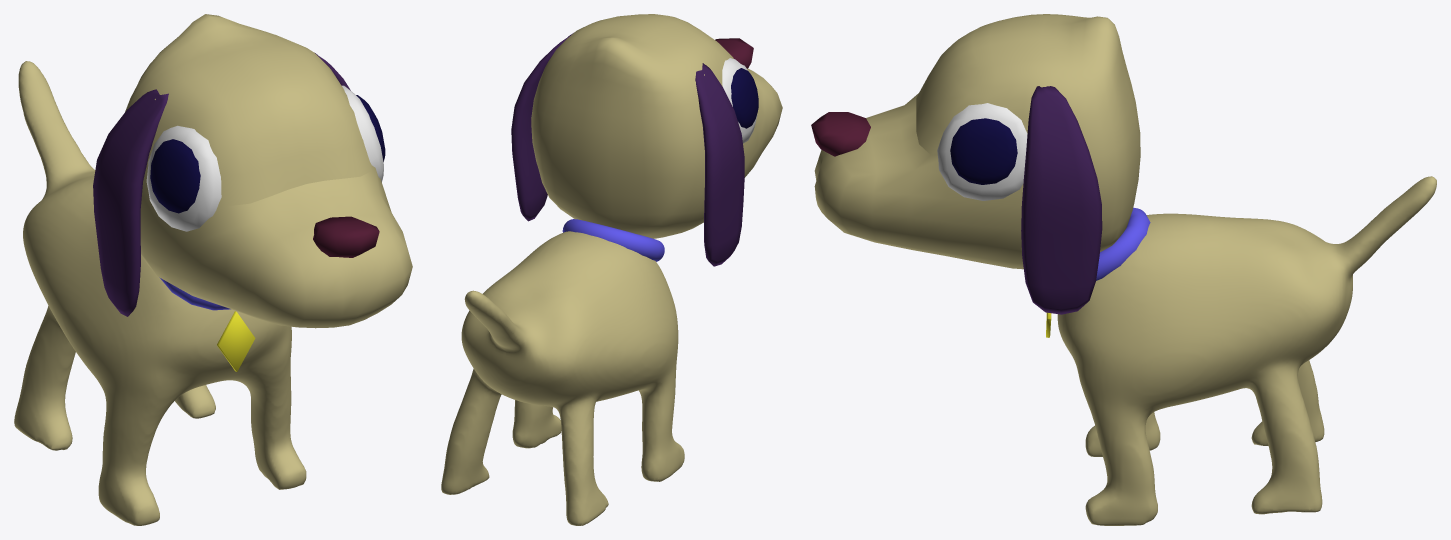
The model's file is Nestor_alive_2_alpha_fixed.fbx.
3 views of the same model, side by side, from view 1: azimuth 30°, elevation 25°; view 2: azimuth 150°, elevation 25°; view 3: azimuth 270°, elevation 25° (orthographic). The views are drawn at different scales.
Parts seen in each view (by area): view 1: Roundcube.005; view 2: Roundcube.005; view 3: Roundcube.005.
Part boxes in pixels (x1,y1,x2,y2): Roundcube.005: (14, 14, 412, 525); Roundcube.005: (441, 14, 782, 525); Roundcube.005: (811, 14, 1436, 525).
Size of the model in its own units: 45.56 by 86.95 by 106.
